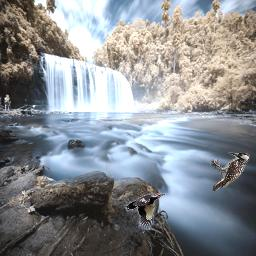Woodpecker: (210, 152, 250, 191), (126, 193, 166, 230)
